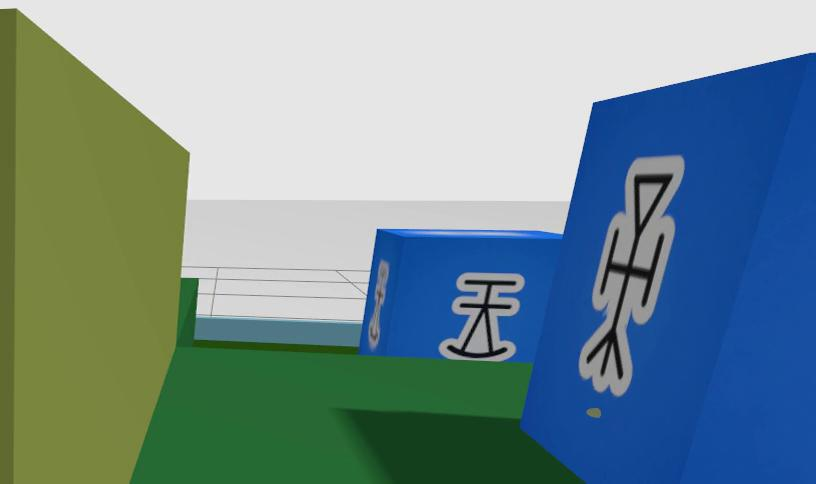KFS_REAL: (520, 53, 815, 484), (358, 228, 560, 360), (579, 156, 683, 395), (439, 272, 524, 359), (366, 260, 388, 348)
